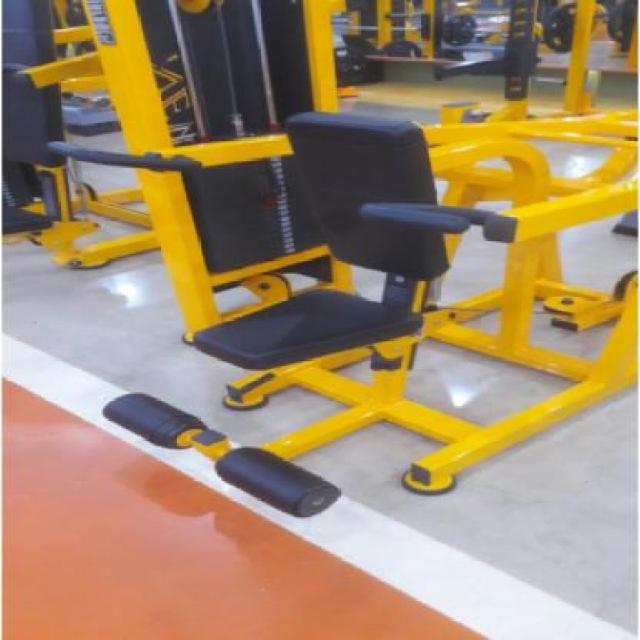seated dip machine: (44, 113, 640, 515)
